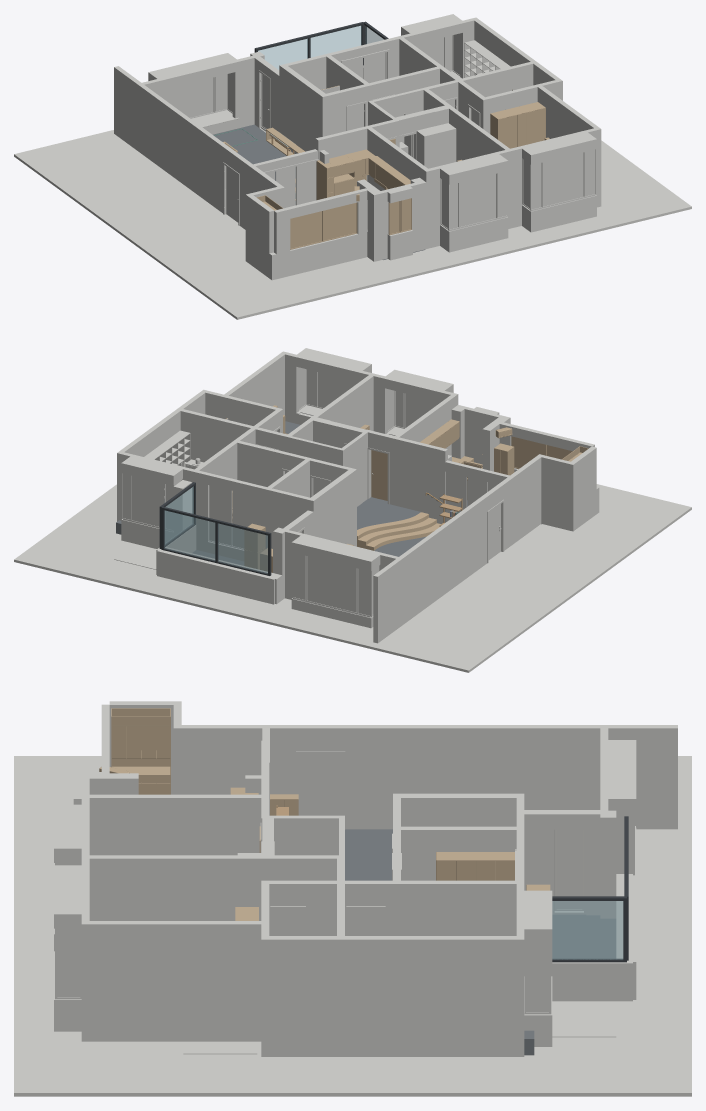
Rendered from interaction_proxy.glb.
3 renders of one model, top to bottom at view 1: azimuth 30°, elevation 25°; view 2: azimuth 150°, elevation 25°; view 3: azimuth 270°, elevation 25°, orthographic. The views are drawn at different scales.
Parts seen in each view (by area): view 1: SITE_GROUND.001, VIEW_WALL_W_wall_md_0006.001, VIEW_WALL_LIVING_FIX_GUEST_BATH_FULL_WALL.001, VIEW_WALL_W_wall_md_0042.001, VIEW_WALL_W_wall_md_0035.001, V4_W-MB-S_FRONT_GLASS_1.001, VIEW_WALL_W_wall_md_0034.001, V4_W-SMB-S_FRONT_GLASS_1.001, VIEW_WALL_W_wall_md_0007.001, VIEW_WALL_W_wall_md_0021.001, VIEW_WALL_W_wall_md_0030.001, FLOOR_LOWER.001 (+45 smaller); view 2: SITE_GROUND.001, VIEW_WALL_W_wall_md_0006.001, VIEW_WALL_W_wall_md_0062.001, VIEW_WALL_W_wall_md_0044.001, VIEW_WALL_W_wall_md_0005.001, VIEW_WALL_W_wall_md_0055.001, VIEW_WALL_W_wall_md_0043.001, VIEW_WALL_LIVING_FIX_GUEST_BATH_FULL_WALL.001, LIVING_FIX_BAY_FRONT_GLASS_1.001, VIEW_WALL_W_wall_md_0049.001, NORTH_BALCONY_GLASS_NORTH_B.001, VIEW_WALL_W_wall_md_0007.001 (+54 smaller); view 3: SITE_GROUND.001, VIEW_WALL_W_wall_md_0030.001, VIEW_WALL_W_wall_md_0033.001, VIEW_WALL_W_wall_md_0006.001, VIEW_WALL_W_wall_md_0021.001, VIEW_WALL_W_wall_md_0015.001, VIEW_WALL_W_wall_md_0032.001, VIEW_WALL_W_wall_md_0005.001, VIEW_WALL_W_wall_md_0025.001, FLOOR_LOWER.001, VIEW_WALL_W_wall_md_0007.001, NORTH_BALCONY_GLASS_EAST.001 (+38 smaller).
Boxes of the visible parts, x1,y1,x2,y2 form: SITE_GROUND.001: (14, 128, 691, 319); VIEW_WALL_W_wall_md_0006.001: (139, 85, 227, 212); VIEW_WALL_LIVING_FIX_GUEST_BATH_FULL_WALL.001: (282, 66, 325, 153); VIEW_WALL_W_wall_md_0042.001: (276, 232, 367, 278); VIEW_WALL_W_wall_md_0035.001: (533, 139, 594, 231); V4_W-MB-S_FRONT_GLASS_1.001: (543, 152, 583, 206); VIEW_WALL_W_wall_md_0034.001: (451, 161, 505, 251); V4_W-SMB-S_FRONT_GLASS_1.001: (460, 174, 496, 226); VIEW_WALL_W_wall_md_0007.001: (114, 66, 141, 150); VIEW_WALL_W_wall_md_0021.001: (449, 107, 509, 161); VIEW_WALL_W_wall_md_0030.001: (537, 86, 598, 138); FLOOR_LOWER.001: (213, 124, 425, 259); SITE_GROUND.001: (14, 484, 691, 672); VIEW_WALL_W_wall_md_0006.001: (399, 495, 487, 624); VIEW_WALL_W_wall_md_0062.001: (157, 547, 277, 604); VIEW_WALL_W_wall_md_0044.001: (396, 437, 441, 523); VIEW_WALL_W_wall_md_0005.001: (499, 456, 541, 550); VIEW_WALL_W_wall_md_0055.001: (196, 470, 266, 561); VIEW_WALL_W_wall_md_0043.001: (541, 455, 575, 531); VIEW_WALL_LIVING_FIX_GUEST_BATH_FULL_WALL.001: (311, 470, 354, 545); LIVING_FIX_BAY_FRONT_GLASS_1.001: (307, 556, 356, 612); VIEW_WALL_W_wall_md_0049.001: (180, 409, 253, 462); NORTH_BALCONY_GLASS_NORTH_B.001: (164, 510, 215, 560); VIEW_WALL_W_wall_md_0007.001: (373, 559, 400, 643); SITE_GROUND.001: (14, 756, 691, 1096); VIEW_WALL_W_wall_md_0030.001: (89, 921, 261, 1041); VIEW_WALL_W_wall_md_0033.001: (345, 936, 516, 1056); VIEW_WALL_W_wall_md_0006.001: (345, 725, 600, 829); VIEW_WALL_W_wall_md_0021.001: (89, 855, 261, 920); VIEW_WALL_W_wall_md_0015.001: (89, 794, 261, 855); VIEW_WALL_W_wall_md_0032.001: (261, 936, 336, 1056); VIEW_WALL_W_wall_md_0005.001: (181, 725, 296, 794); VIEW_WALL_W_wall_md_0025.001: (401, 880, 516, 935); FLOOR_LOWER.001: (345, 829, 616, 958); VIEW_WALL_W_wall_md_0007.001: (608, 725, 677, 829); NORTH_BALCONY_GLASS_EAST.001: (552, 901, 623, 959).
Size of the model in its own units: 20 by 3.37 by 17.
